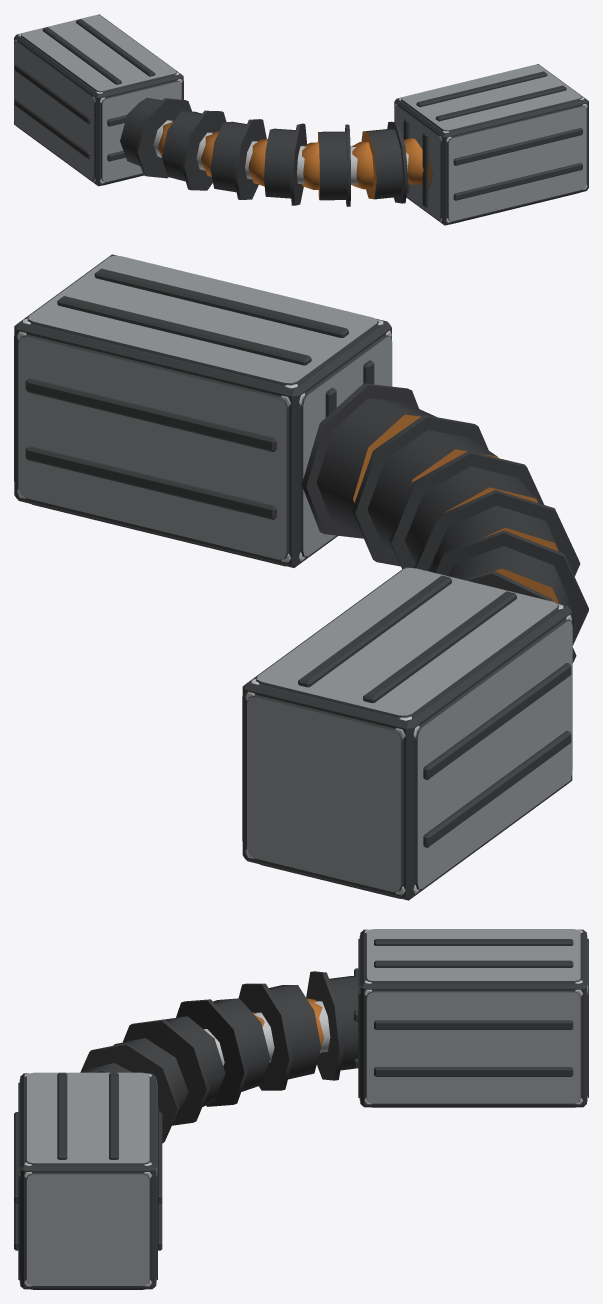
Rendered from R4C_ROD_ARC_SHORT.fbx.
3 views of the same model, one above another, from view 1: azimuth 30°, elevation 25°; view 2: azimuth 150°, elevation 25°; view 3: azimuth 270°, elevation 25° (orthographic). The views are drawn at different scales.
Visible parts, largest first — view 1: R4C_ROD_ARC_SHORT; view 2: R4C_ROD_ARC_SHORT; view 3: R4C_ROD_ARC_SHORT.
Boxes of the visible parts, left/top/right/bottom form: R4C_ROD_ARC_SHORT: left=14, top=14, right=588, bottom=225; R4C_ROD_ARC_SHORT: left=14, top=254, right=588, bottom=900; R4C_ROD_ARC_SHORT: left=14, top=929, right=588, bottom=1289.
Bounding box in the file's own units: 0.93 × 0.233 × 0.93.
